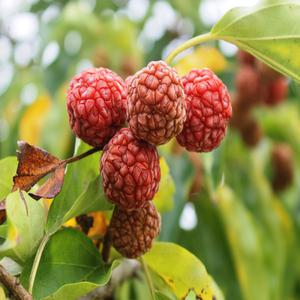raspb: (63, 58, 234, 159)
